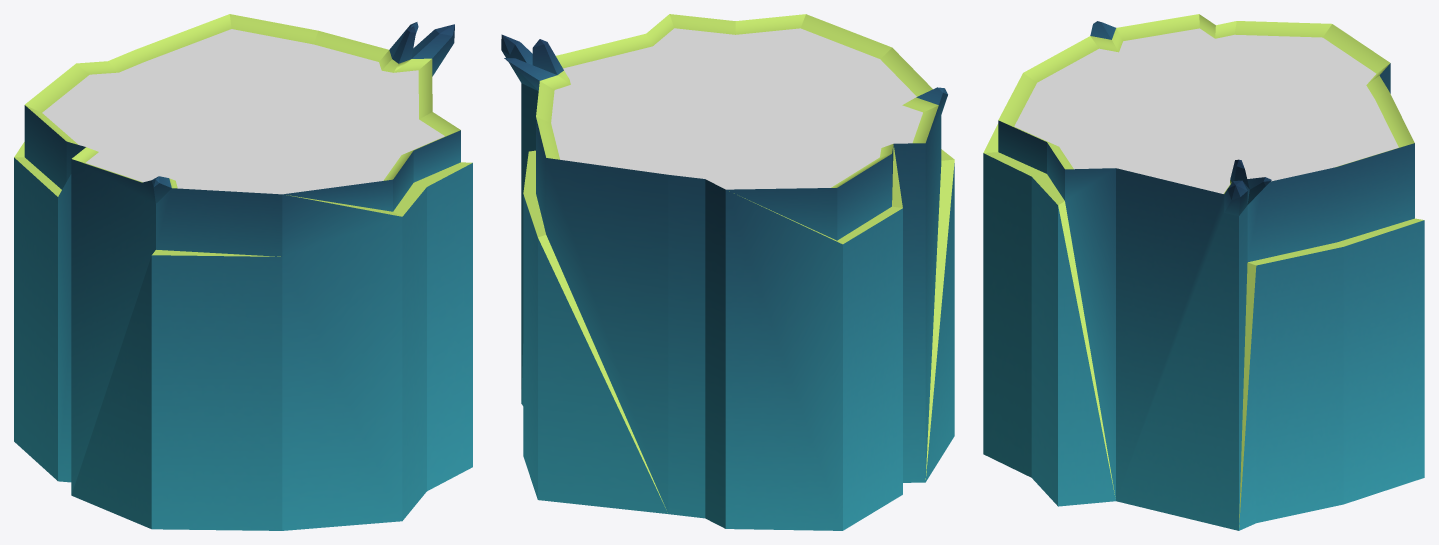
Rendered from MOD_Platform_HoogV2.fbx.
3 renders of one model, left to right at view 1: azimuth 30°, elevation 25°; view 2: azimuth 150°, elevation 25°; view 3: azimuth 270°, elevation 25°, orthographic.
Parts seen in each view (by area): view 1: MOD_Platform_Laag; view 2: MOD_Platform_Laag; view 3: MOD_Platform_Laag.
Part boxes in pixels (x1=…): MOD_Platform_Laag: x1=14, y1=14, x2=472, y2=530; MOD_Platform_Laag: x1=501, y1=14, x2=954, y2=530; MOD_Platform_Laag: x1=983, y1=14, x2=1424, y2=530.
Size of the model in its own units: 7.34 by 6.39 by 7.05.
3 materials, 1 textured.
